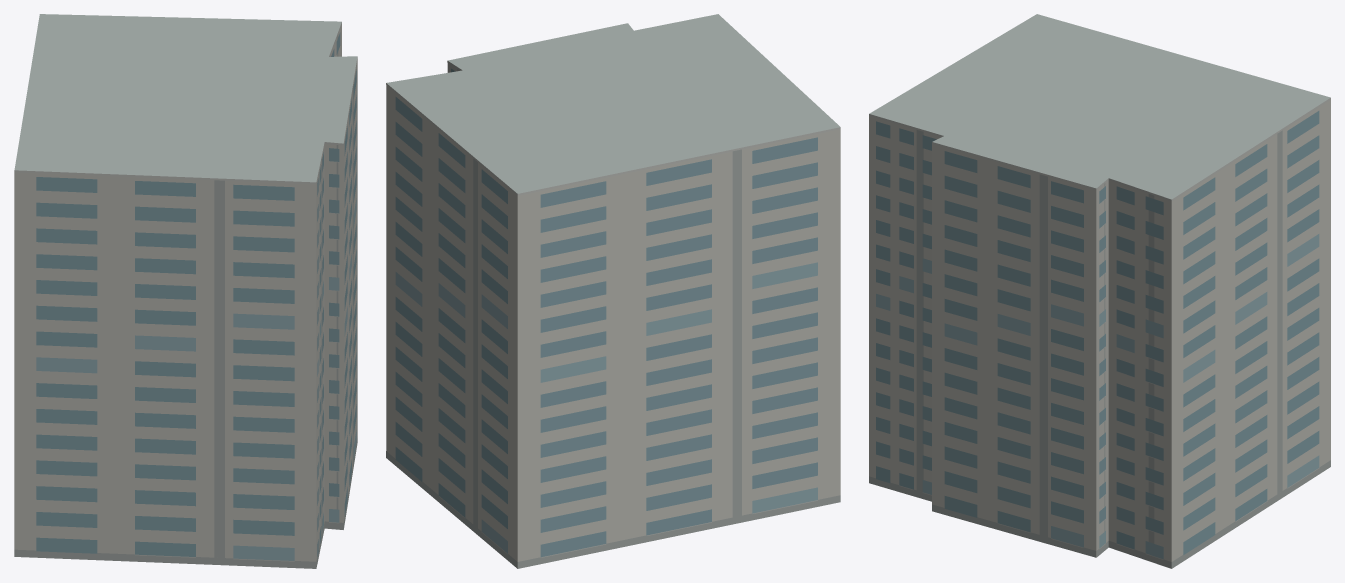
File: residential-c6ac1d43-3bdb-44ee-bd8b-1f9777758182.glb
3 views of the same model, side by side, from view 1: azimuth 30°, elevation 25°; view 2: azimuth 150°, elevation 25°; view 3: azimuth 270°, elevation 25° (orthographic). The views are drawn at different scales.
Parts seen in each view (by area): view 1: residential-c6ac1d43-3bdb-44ee-bd8b-1f9777758182.tmp; view 2: residential-c6ac1d43-3bdb-44ee-bd8b-1f9777758182.tmp; view 3: residential-c6ac1d43-3bdb-44ee-bd8b-1f9777758182.tmp.
Boxes of the visible parts, x1,y1,x2,y2 form: residential-c6ac1d43-3bdb-44ee-bd8b-1f9777758182.tmp: (14, 14, 357, 568); residential-c6ac1d43-3bdb-44ee-bd8b-1f9777758182.tmp: (386, 14, 840, 568); residential-c6ac1d43-3bdb-44ee-bd8b-1f9777758182.tmp: (869, 14, 1330, 568).
Size of the model in its own units: 51.74 by 48 by 54.41.
